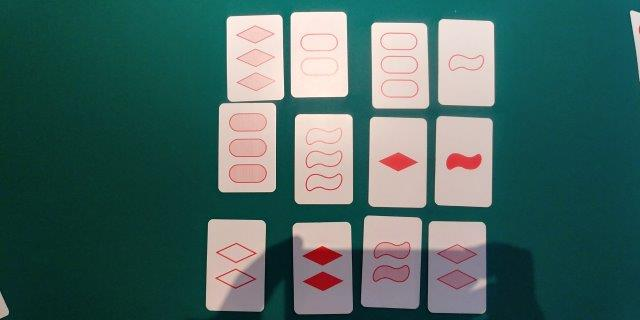1EW: (442, 21, 491, 104)
1FD: (372, 119, 424, 205)
1FW: (438, 119, 489, 202)
2ED: (210, 222, 263, 308)
2EP: (293, 15, 345, 94)
2FD: (296, 225, 349, 311)
2HD: (432, 225, 483, 310)
2HW: (366, 219, 416, 305)
3EP: (373, 25, 425, 106)
3EW: (297, 117, 350, 201)
3HD: (229, 19, 281, 96)
3HP: (221, 105, 274, 190)
